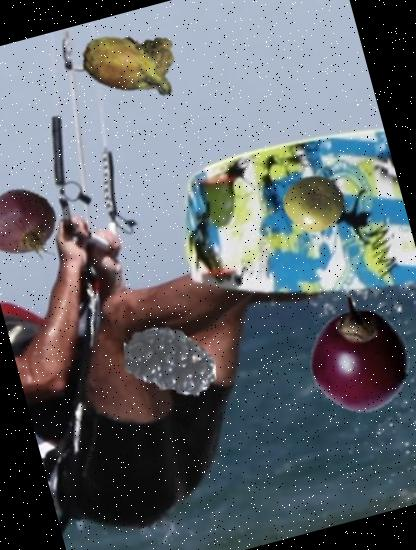Cactus: (70, 8, 190, 128)
Cauliflower: (108, 21, 184, 97)
Mulberry: (114, 306, 227, 419)
Onion: (0, 173, 81, 281)
Pomelo: (276, 166, 352, 242)
Tamarillo: (294, 290, 416, 425)
